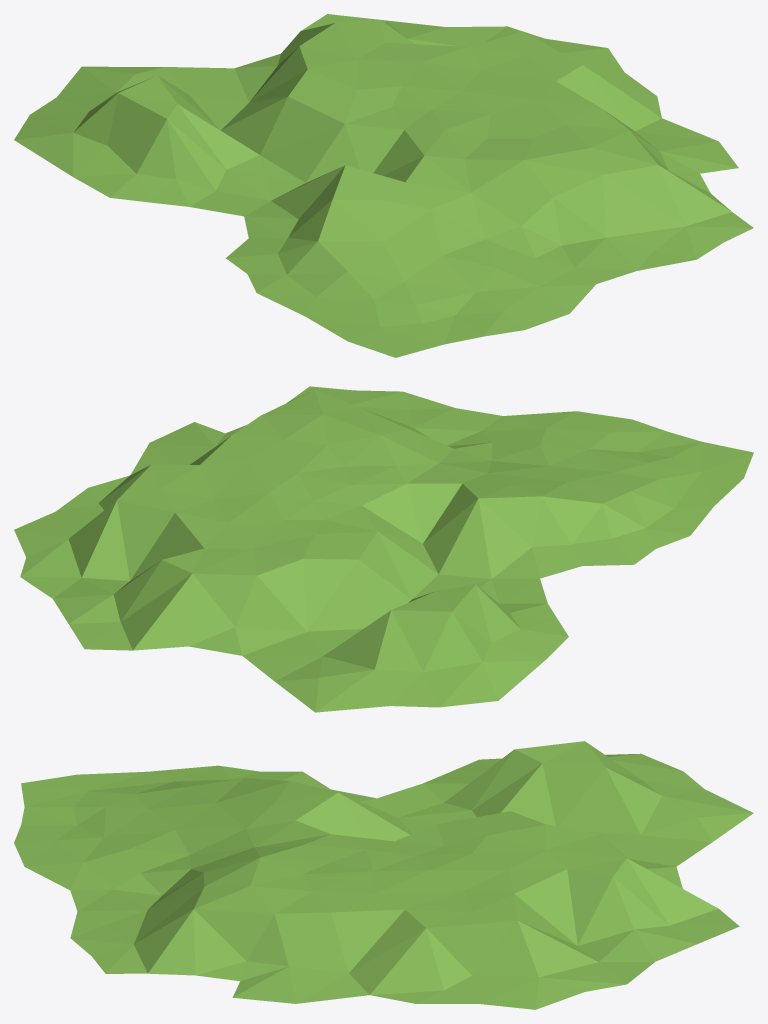
File: MT_Mountain_M_c_01.fbx
3 views of the same model, one above another, from view 1: azimuth 30°, elevation 25°; view 2: azimuth 150°, elevation 25°; view 3: azimuth 270°, elevation 25° (orthographic). The views are drawn at different scales.
Parts seen in each view (by area): view 1: MT_Mountain_M_c_01; view 2: MT_Mountain_M_c_01; view 3: MT_Mountain_M_c_01.
Boxes of the visible parts, x1,y1,x2,y2 form: MT_Mountain_M_c_01: [14, 14, 753, 357]; MT_Mountain_M_c_01: [14, 386, 753, 712]; MT_Mountain_M_c_01: [14, 741, 753, 1009].
Bounding box in the file's own units: 3359 × 306 × 4102.
